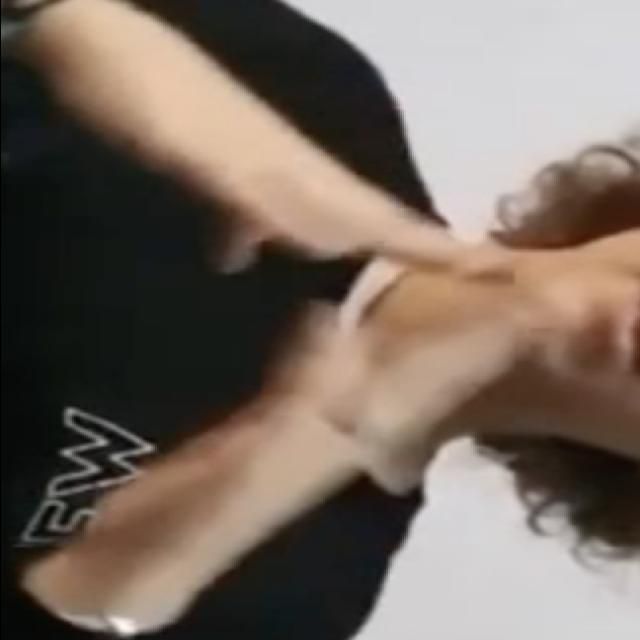casa: (46, 11, 580, 616)
